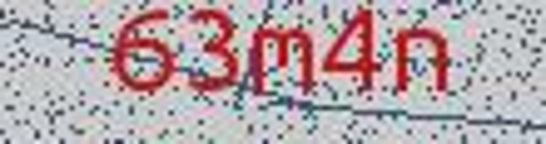3: (181, 4, 245, 97)
4: (317, 1, 383, 107)
6: (106, 2, 177, 101)
m: (249, 20, 318, 103)
n: (386, 16, 457, 108)
